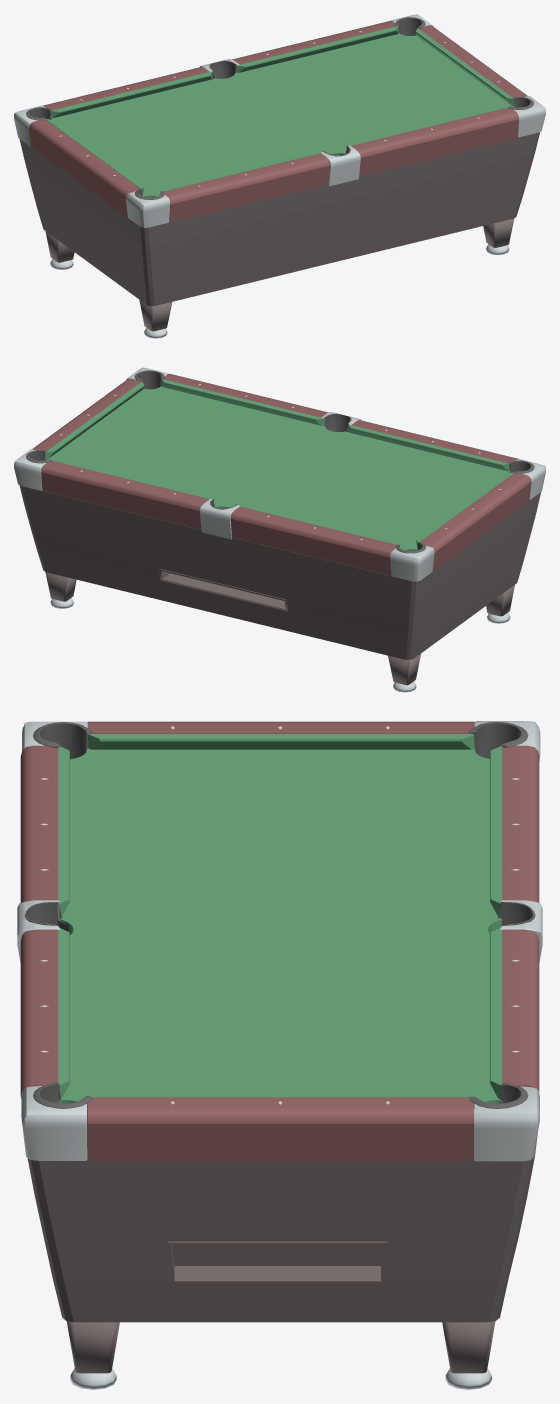
Rendered from Billar.fbx.
3 renders of one model, top to bottom at view 1: azimuth 30°, elevation 25°; view 2: azimuth 150°, elevation 25°; view 3: azimuth 270°, elevation 25°, orthographic. The views are drawn at different scales.
Visible parts, largest first — view 1: Base, Tapete1, polySurface6, polySurface5, polySurface7, pCube13, pCube14, polySurface4, polySurface3, polySurface2, polySurface24, polySurface14 (+11 smaller); view 2: Base, Tapete1, polySurface2, polySurface3, polySurface7, pCube16, pCube15, polySurface4, polySurface5, polySurface6, polySurface8, polySurface22 (+11 smaller); view 3: Tapete1, Base, polySurface4, pCube18, polySurface5, polySurface6, polySurface3, polySurface2, polySurface7, polySurface9, polySurface23, pCube2 (+10 smaller).
Part boxes in pixels (x1=…): Base: x1=19, y1=132, x2=539, y2=306; Tapete1: x1=50, y1=33, x2=514, y2=197; polySurface6: x1=164, y1=153, x2=329, y2=222; polySurface5: x1=351, y1=107, x2=518, y2=176; polySurface7: x1=29, y1=119, x2=139, y2=217; pCube13: x1=50, y1=71, x2=212, y2=118; pCube14: x1=237, y1=26, x2=398, y2=72; polySurface4: x1=418, y1=25, x2=527, y2=97; polySurface3: x1=232, y1=20, x2=396, y2=64; polySurface2: x1=43, y1=67, x2=208, y2=110; polySurface24: x1=126, y1=191, x2=170, y2=227; polySurface14: x1=320, y1=145, x2=360, y2=186; Base: x1=19, y1=485, x2=540, y2=659; Tapete1: x1=45, y1=386, x2=510, y2=550; polySurface2: x1=230, y1=506, x2=395, y2=575; polySurface3: x1=41, y1=460, x2=209, y2=529; polySurface7: x1=421, y1=473, x2=531, y2=570; pCube16: x1=348, y1=424, x2=510, y2=472; pCube15: x1=161, y1=379, x2=323, y2=425; polySurface4: x1=32, y1=378, x2=141, y2=459; polySurface5: x1=163, y1=373, x2=328, y2=417; polySurface6: x1=352, y1=420, x2=518, y2=463; polySurface8: x1=390, y1=545, x2=434, y2=581; polySurface22: x1=200, y1=498, x2=239, y2=539; Tapete1: x1=60, y1=748, x2=501, y2=1103; Base: x1=27, y1=1148, x2=534, y2=1322; polySurface4: x1=87, y1=1097, x2=474, y2=1160; pCube18: x1=88, y1=734, x2=474, y2=749; polySurface5: x1=20, y1=930, x2=58, y2=1098; polySurface6: x1=20, y1=745, x2=58, y2=902; polySurface3: x1=502, y1=930, x2=539, y2=1101; polySurface2: x1=502, y1=745, x2=539, y2=902; polySurface7: x1=87, y1=721, x2=474, y2=733; polySurface9: x1=474, y1=1086, x2=539, y2=1161; polySurface23: x1=21, y1=1086, x2=86, y2=1160; pCube2: x1=442, y1=1321, x2=495, y2=1373.
Size of the model in its own units: 23.97 by 8.46 by 13.45.
